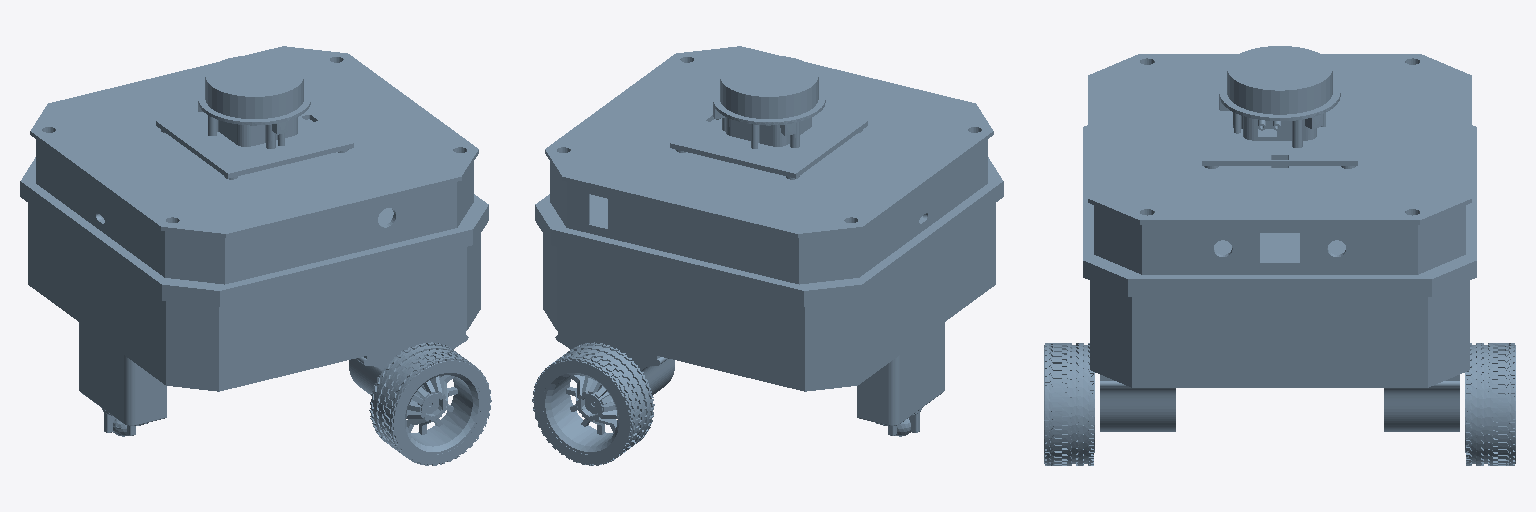
robot.urdf — auto_dir:
<?xml version="1.0"?>
<!-- auto_dir: generated by URDF Forge 2026-11-26T15:17:13.405Z
     Target: ROS 2 Jazzy · Gazebo Harmonic
     REP 103: Z-up, metres, kilograms, radians. -->
<robot name="auto_dir">
  <material name="default"><color rgba="0.56 0.65 0.73 1"/></material>

  <link name="Octagonal_inspection_chassis">
    <inertial>
      <origin xyz="-0.00554286 0.02933278 -14.21982468" rpy="0 0 0"/>
      <mass value="309366849.24947399"/>
      <inertia ixx="1527541817756.5920410156" ixy="-857153257.7619526386" ixz="-226549569.1636525989" iyy="1657595413124.2353515625" iyz="120355585.1159259528" izz="2954941743653.1005859375"/>
    </inertial>
    <visual name="Octagonal_inspection_chassis_visual">
      <origin xyz="0 0 -47" rpy="0 0 0"/>
      <geometry><mesh filename="package://auto_dir_description/meshes/Octagonal_inspection_chassis.stl" scale="1 1 1"/></geometry>
      <material name="default"/>
    </visual>
    <collision name="Octagonal_inspection_chassis_collision">
      <origin xyz="0 0 0" rpy="0 0 0"/>
      <geometry><box size="206 200 62"/></geometry>
    </collision>
  </link>

  <link name="Octagonal_service_cover_with_projecting_roof_edge">
    <inertial>
      <origin xyz="-1.29910941 -0.46143565 8.52465101" rpy="0 0 0"/>
      <mass value="169278889.64498931"/>
      <inertia ixx="742695270037.7515869141" ixy="5208195678.570148468" ixz="-1951204289.4255459309" iyy="793107221863.4862060547" iyz="-847886531.1748096943" izz="1502190663556.8205566406"/>
    </inertial>
    <visual name="Octagonal_service_cover_with_projecting_roof_edge_visual">
      <origin xyz="0 0 -97.5" rpy="0 0 0"/>
      <geometry><mesh filename="package://auto_dir_description/meshes/Octagonal_service_cover_with_projecting_roof_edge.stl" scale="1 1 1"/></geometry>
      <material name="default"/>
    </visual>
    <collision name="Octagonal_service_cover_with_projecting_roof_edge_collision">
      <origin xyz="0 0 0" rpy="0 0 0"/>
      <geometry><box size="208 202 33"/></geometry>
    </collision>
  </link>
  <joint name="Octagonal_service_cover_with_projecting_roof_edge_joint" type="fixed">
    <parent link="Octagonal_inspection_chassis"/>
    <child link="Octagonal_service_cover_with_projecting_roof_edge"/>
    <origin xyz="0 0 50.5" rpy="0 0 0"/>
  </joint>

  <link name="Octagonal_deck_with_overlapping_drip_skirt">
    <inertial>
      <origin xyz="-2.00911969 0 -0.98056889" rpy="0 0 0"/>
      <mass value="150265723.02505878"/>
      <inertia ixx="569011625824.5833740234" ixy="0.0000029196" ixz="1291723601.1896309853" iyy="624711741428.2354736328" iyz="0.0000004923" izz="1192365438564.0375976563"/>
    </inertial>
    <visual name="Octagonal_deck_with_overlapping_drip_skirt_visual">
      <origin xyz="0 0 -80" rpy="0 0 0"/>
      <geometry><mesh filename="package://auto_dir_description/meshes/Octagonal_deck_with_overlapping_drip_skirt.stl" scale="1 1 1"/></geometry>
      <material name="default"/>
    </visual>
    <collision name="Octagonal_deck_with_overlapping_drip_skirt_collision">
      <origin xyz="0 0 0" rpy="0 0 0"/>
      <geometry><box size="214 208 18"/></geometry>
    </collision>
  </link>
  <joint name="Octagonal_deck_with_overlapping_drip_skirt_joint" type="fixed">
    <parent link="Octagonal_inspection_chassis"/>
    <child link="Octagonal_deck_with_overlapping_drip_skirt"/>
    <origin xyz="0 0 33" rpy="0 0 0"/>
  </joint>

  <link name="_mm_wheel_left_layout">
    <inertial>
      <origin xyz="0.00159847 -0.13373383 -0.00004672" rpy="0 0 0"/>
      <mass value="47554577.29835925"/>
      <inertia ixx="19480808965.5183944702" ixy="-144665.7646665155" ixz="-29414.3313422865" iyy="33874714899.6596412659" iyz="3750.1877010495" izz="19482351544.8866081238"/>
    </inertial>
    <visual name="_mm_wheel_left_layout_visual">
      <origin xyz="-50.79001427 -111 18.00000048" rpy="0 0 0"/>
      <geometry><mesh filename="package://auto_dir_description/meshes/_mm_wheel_left_layout.stl" scale="1 1 1"/></geometry>
      <material name="default"/>
    </visual>
    <collision name="_mm_wheel_left_layout_collision">
      <origin xyz="0 0 0" rpy="0 0 0"/>
      <geometry><box size="64.99992371 26.3999939 64.99986267"/></geometry>
    </collision>
  </link>
  <joint name="_mm_wheel_left_layout_joint" type="fixed">
    <parent link="Octagonal_inspection_chassis"/>
    <child link="_mm_wheel_left_layout"/>
    <origin xyz="50.79001427 111 -65.00000048" rpy="0 0 0"/>
  </joint>

  <link name="_mm_wheel_right_layout">
    <inertial>
      <origin xyz="-0.00158645 0.13373103 -0.00005211" rpy="0 0 0"/>
      <mass value="47554559.74073744"/>
      <inertia ixx="19480801694.7012405396" ixy="-148655.7639223421" ixz="22059.0386899883" iyy="33874696947.1223640442" iyz="-3528.5423048459" izz="19482334362.3401184082"/>
    </inertial>
    <visual name="_mm_wheel_right_layout_visual">
      <origin xyz="-50.78998375 111 18.00000048" rpy="0 0 0"/>
      <geometry><mesh filename="package://auto_dir_description/meshes/_mm_wheel_right_layout.stl" scale="1 1 1"/></geometry>
      <material name="default"/>
    </visual>
    <collision name="_mm_wheel_right_layout_collision">
      <origin xyz="0 0 0" rpy="0 0 0"/>
      <geometry><box size="64.99992371 26.3999939 64.99986267"/></geometry>
    </collision>
  </link>
  <joint name="_mm_wheel_right_layout_joint" type="fixed">
    <parent link="Octagonal_inspection_chassis"/>
    <child link="_mm_wheel_right_layout"/>
    <origin xyz="50.78998375 -111 -65.00000048" rpy="0 0 0"/>
  </joint>

  <link name="v3_style_caster_mount_fitted_to_W420">
    <inertial>
      <origin xyz="-4.46936527 -0.00047946 -2.49669009" rpy="0 0 0"/>
      <mass value="26811546.32636261"/>
      <inertia ixx="16779575318.83842659" ixy="41119.8444392437" ixz="-222806665.0569467247" iyy="8361848502.8976192474" iyz="276181.8969360901" izz="13194193064.3010997772"/>
    </inertial>
    <visual name="v3_style_caster_mount_fitted_to_W420_visual">
      <origin xyz="82.5 0 7.25" rpy="0 0 0"/>
      <geometry><mesh filename="package://auto_dir_description/meshes/v3_style_caster_mount_fitted_to_W420.stl" scale="1 1 1"/></geometry>
      <material name="default"/>
    </visual>
    <collision name="v3_style_caster_mount_fitted_to_W420_collision">
      <origin xyz="0 0 0" rpy="0 0 0"/>
      <geometry><box size="35 79.92708588 46.5"/></geometry>
    </collision>
  </link>
  <joint name="v3_style_caster_mount_fitted_to_W420_joint" type="fixed">
    <parent link="Octagonal_inspection_chassis"/>
    <child link="v3_style_caster_mount_fitted_to_W420"/>
    <origin xyz="-82.5 0 -54.25" rpy="0 0 0"/>
  </joint>

  <link name="BIN_02_MotorMount_FL">
    <inertial>
      <origin xyz="0.01745932 2.56807228 9.50233141" rpy="0 0 0"/>
      <mass value="25958585.76240427"/>
      <inertia ixx="10138960890.0474872589" ixy="23981782.9555799775" ixz="-40526980.8292094991" iyy="15093030419.7687034607" iyz="451034992.2045432925" izz="13100063270.2314090729"/>
    </inertial>
    <visual name="BIN_02_MotorMount_FL_visual">
      <origin xyz="-50.78729248 -75 8" rpy="0 0 0"/>
      <geometry><mesh filename="package://auto_dir_description/meshes/BIN_02_MotorMount_FL.stl" scale="1 1 1"/></geometry>
      <material name="default"/>
    </visual>
    <collision name="BIN_02_MotorMount_FL_collision">
      <origin xyz="0 0 0" rpy="0 0 0"/>
      <geometry><box size="68.46034241 40 48"/></geometry>
    </collision>
  </link>
  <joint name="BIN_02_MotorMount_FL_joint" type="fixed">
    <parent link="Octagonal_inspection_chassis"/>
    <child link="BIN_02_MotorMount_FL"/>
    <origin xyz="50.78729248 75 -55" rpy="0 0 0"/>
  </joint>

  <link name="BIN_03_MotorMount_FR">
    <inertial>
      <origin xyz="0.01743522 -2.56807674 9.50232441" rpy="0 0 0"/>
      <mass value="25958566.54452845"/>
      <inertia ixx="10138956735.7752113342" ixy="-23978024.3483303934" ixz="-40521062.1099019498" iyy="15093008333.2885837555" iyz="-451033894.3418180346" izz="13100040469.7086524963"/>
    </inertial>
    <visual name="BIN_03_MotorMount_FR_visual">
      <origin xyz="-50.78729248 75 8" rpy="0 0 0"/>
      <geometry><mesh filename="package://auto_dir_description/meshes/BIN_03_MotorMount_FR.stl" scale="1 1 1"/></geometry>
      <material name="default"/>
    </visual>
    <collision name="BIN_03_MotorMount_FR_collision">
      <origin xyz="0 0 0" rpy="0 0 0"/>
      <geometry><box size="68.46034241 40 48"/></geometry>
    </collision>
  </link>
  <joint name="BIN_03_MotorMount_FR_joint" type="fixed">
    <parent link="Octagonal_inspection_chassis"/>
    <child link="BIN_03_MotorMount_FR"/>
    <origin xyz="50.78729248 -75 -55" rpy="0 0 0"/>
  </joint>

  <link name="Dreame_LDS_plate_supplied_STEP_hole_pattern">
    <inertial>
      <origin xyz="-0.31333239 0.00530452 0.9565053" rpy="0 0 0"/>
      <mass value="20206761.53403697"/>
      <inertia ixx="11705117914.1720485687" ixy="-635431.8032607735" ixz="275383.7853661744" iyy="11475877872.3590869904" iyz="-4662.0735174462" izz="23146556921.7335929871"/>
    </inertial>
    <visual name="Dreame_LDS_plate_supplied_STEP_hole_pattern_visual">
      <origin xyz="0 0 -116.5" rpy="0 0 0"/>
      <geometry><mesh filename="package://auto_dir_description/meshes/Dreame_LDS_plate_supplied_STEP_hole_pattern.stl" scale="1 1 1"/></geometry>
      <material name="default"/>
    </visual>
    <collision name="Dreame_LDS_plate_supplied_STEP_hole_pattern_collision">
      <origin xyz="0 0 0" rpy="0 0 0"/>
      <geometry><box size="82 82 5"/></geometry>
    </collision>
  </link>
  <joint name="Dreame_LDS_plate_supplied_STEP_hole_pattern_joint" type="fixed">
    <parent link="Octagonal_inspection_chassis"/>
    <child link="Dreame_LDS_plate_supplied_STEP_hole_pattern"/>
    <origin xyz="0 0 69.5" rpy="0 0 0"/>
  </joint>

  <link name="DreameLDS_2">
    <inertial>
      <origin xyz="0.04003593 0.03613687 4.80679969" rpy="0 0 0"/>
      <mass value="12974561.50585137"/>
      <inertia ixx="3750281227.8656525612" ixy="27514275.6269324832" ixz="-12390174.6740924418" iyy="3607679181.2356915474" iyz="-615412.5194230946" izz="6479824591.0357818604"/>
    </inertial>
    <visual name="DreameLDS_2_visual">
      <origin xyz="0 -0.00540829 -129.5" rpy="0 0 0"/>
      <geometry><mesh filename="package://auto_dir_description/meshes/DreameLDS_2.stl" scale="1 1 1"/></geometry>
      <material name="default"/>
    </visual>
    <collision name="DreameLDS_2_collision">
      <origin xyz="0 0 0" rpy="0 0 0"/>
      <geometry><box size="64 63.98907471 21"/></geometry>
    </collision>
  </link>
  <joint name="DreameLDS_2_joint" type="fixed">
    <parent link="Octagonal_inspection_chassis"/>
    <child link="DreameLDS_2"/>
    <origin xyz="0 0.00540829 82.5" rpy="0 0 0"/>
  </joint>

  <link name="DreameLDS">
    <inertial>
      <origin xyz="0.00535594 0.08846231 3.74476042" rpy="0 0 0"/>
      <mass value="11561723.5327449"/>
      <inertia ixx="3992651519.761654377" ixy="-849271.4767369871" ixz="129387.9438642974" iyy="3931742524.3925905228" iyz="12469257.5262069814" izz="7064336355.787569046"/>
    </inertial>
    <visual name="DreameLDS_visual">
      <origin xyz="0 -0.00540733 -143.5" rpy="0 0 0"/>
      <geometry><mesh filename="package://auto_dir_description/meshes/DreameLDS.stl" scale="1 1 1"/></geometry>
      <material name="default"/>
    </visual>
    <collision name="DreameLDS_collision">
      <origin xyz="0 0 0" rpy="0 0 0"/>
      <geometry><box size="64 63.98907089 21"/></geometry>
    </collision>
  </link>
  <joint name="DreameLDS_joint" type="fixed">
    <parent link="Octagonal_inspection_chassis"/>
    <child link="DreameLDS"/>
    <origin xyz="0 0.00540733 96.5" rpy="0 0 0"/>
  </joint>

  <link name="W420_ball_caster_supplied_STEP">
    <inertial>
      <origin xyz="-0.00014914 0.00017374 4.08880463" rpy="0 0 0"/>
      <mass value="3588014.29357459"/>
      <inertia ixx="451329462.358109355" ixy="-47.3457217138" ixz="-3891.6102763556" iyy="177388350.6159245372" iyz="4097.0966726912" izz="523953131.154607594"/>
    </inertial>
    <visual name="W420_ball_caster_supplied_STEP_visual">
      <origin xyz="86 0 38.2299614" rpy="0 0 0"/>
      <geometry><mesh filename="package://auto_dir_description/meshes/W420_ball_caster_supplied_STEP.stl" scale="1 1 1"/></geometry>
      <material name="default"/>
    </visual>
    <collision name="W420_ball_caster_supplied_STEP_collision">
      <origin xyz="0 0 0" rpy="0 0 0"/>
      <geometry><box size="24.43623352 50.70000076 15.45999908"/></geometry>
    </collision>
  </link>
  <joint name="W420_ball_caster_supplied_STEP_joint" type="fixed">
    <parent link="Octagonal_inspection_chassis"/>
    <child link="W420_ball_caster_supplied_STEP"/>
    <origin xyz="-86 0 -85.2299614" rpy="0 0 0"/>
  </joint>

  <link name="W420_ball_caster_supplied_STEP_2">
    <inertial>
      <origin xyz="0 0 0.00000027" rpy="0 0 0"/>
      <mass value="1988140.60857785"/>
      <inertia ixx="48536149.0682027638" ixy="34731.0541706769" ixz="0" iyy="48491556.8371195719" iyz="-0.0000000001" izz="48157810.220600605"/>
    </inertial>
    <visual name="W420_ball_caster_supplied_STEP_2_visual">
      <origin xyz="86 0 42.59996223" rpy="0 0 0"/>
      <geometry><mesh filename="package://auto_dir_description/meshes/W420_ball_caster_supplied_STEP_2.stl" scale="1 1 1"/></geometry>
      <material name="default"/>
    </visual>
    <collision name="W420_ball_caster_supplied_STEP_2_collision">
      <origin xyz="0 0 0" rpy="0 0 0"/>
      <geometry><box size="15.79347229 15.79346561 15.79999924"/></geometry>
    </collision>
  </link>
  <joint name="W420_ball_caster_supplied_STEP_2_joint" type="fixed">
    <parent link="Octagonal_inspection_chassis"/>
    <child link="W420_ball_caster_supplied_STEP_2"/>
    <origin xyz="-86 0 -89.59996223" rpy="0 0 0"/>
  </joint>

  <!-- Simulator: Gazebo Harmonic -->
  <gazebo reference="Octagonal_inspection_chassis">
    <mu1>0.8</mu1>
    <mu2>0.8</mu2>
    <kp>1000000</kp>
    <kd>100</kd>
    <minDepth>0.001</minDepth>
    <maxVel>0.01</maxVel>
    <selfCollide>false</selfCollide>
    <visual>
      <material>
        <ambient>0.56 0.65 0.73 1</ambient>
        <diffuse>0.56 0.65 0.73 1</diffuse>
        <specular>0.1 0.1 0.1 1</specular>
        <pbr><metal><metalness>0.15</metalness><roughness>0.55</roughness></metal></pbr>
      </material>
    </visual>
  </gazebo>
  <gazebo reference="Octagonal_service_cover_with_projecting_roof_edge">
    <mu1>0.8</mu1>
    <mu2>0.8</mu2>
    <kp>1000000</kp>
    <kd>100</kd>
    <minDepth>0.001</minDepth>
    <maxVel>0.01</maxVel>
    <selfCollide>false</selfCollide>
    <visual>
      <material>
        <ambient>0.56 0.65 0.73 1</ambient>
        <diffuse>0.56 0.65 0.73 1</diffuse>
        <specular>0.1 0.1 0.1 1</specular>
        <pbr><metal><metalness>0.15</metalness><roughness>0.55</roughness></metal></pbr>
      </material>
    </visual>
  </gazebo>
  <gazebo reference="Octagonal_deck_with_overlapping_drip_skirt">
    <mu1>0.8</mu1>
    <mu2>0.8</mu2>
    <kp>1000000</kp>
    <kd>100</kd>
    <minDepth>0.001</minDepth>
    <maxVel>0.01</maxVel>
    <selfCollide>false</selfCollide>
    <visual>
      <material>
        <ambient>0.56 0.65 0.73 1</ambient>
        <diffuse>0.56 0.65 0.73 1</diffuse>
        <specular>0.1 0.1 0.1 1</specular>
        <pbr><metal><metalness>0.15</metalness><roughness>0.55</roughness></metal></pbr>
      </material>
    </visual>
  </gazebo>
  <gazebo reference="_mm_wheel_left_layout">
    <mu1>0.8</mu1>
    <mu2>0.8</mu2>
    <kp>1000000</kp>
    <kd>100</kd>
    <minDepth>0.001</minDepth>
    <maxVel>0.01</maxVel>
    <selfCollide>false</selfCollide>
    <visual>
      <material>
        <ambient>0.56 0.65 0.73 1</ambient>
        <diffuse>0.56 0.65 0.73 1</diffuse>
        <specular>0.1 0.1 0.1 1</specular>
        <pbr><metal><metalness>0.15</metalness><roughness>0.55</roughness></metal></pbr>
      </material>
    </visual>
  </gazebo>
  <gazebo reference="_mm_wheel_right_layout">
    <mu1>0.8</mu1>
    <mu2>0.8</mu2>
    <kp>1000000</kp>
    <kd>100</kd>
    <minDepth>0.001</minDepth>
    <maxVel>0.01</maxVel>
    <selfCollide>false</selfCollide>
    <visual>
      <material>
        <ambient>0.56 0.65 0.73 1</ambient>
        <diffuse>0.56 0.65 0.73 1</diffuse>
        <specular>0.1 0.1 0.1 1</specular>
        <pbr><metal><metalness>0.15</metalness><roughness>0.55</roughness></metal></pbr>
      </material>
    </visual>
  </gazebo>
  <gazebo reference="v3_style_caster_mount_fitted_to_W420">
    <mu1>0.8</mu1>
    <mu2>0.8</mu2>
    <kp>1000000</kp>
    <kd>100</kd>
    <minDepth>0.001</minDepth>
    <maxVel>0.01</maxVel>
    <selfCollide>false</selfCollide>
    <visual>
      <material>
        <ambient>0.56 0.65 0.73 1</ambient>
        <diffuse>0.56 0.65 0.73 1</diffuse>
        <specular>0.1 0.1 0.1 1</specular>
        <pbr><metal><metalness>0.15</metalness><roughness>0.55</roughness></metal></pbr>
      </material>
    </visual>
  </gazebo>
  <gazebo reference="BIN_02_MotorMount_FL">
    <mu1>0.8</mu1>
    <mu2>0.8</mu2>
    <kp>1000000</kp>
    <kd>100</kd>
    <minDepth>0.001</minDepth>
    <maxVel>0.01</maxVel>
    <selfCollide>false</selfCollide>
    <visual>
      <material>
        <ambient>0.56 0.65 0.73 1</ambient>
        <diffuse>0.56 0.65 0.73 1</diffuse>
        <specular>0.1 0.1 0.1 1</specular>
        <pbr><metal><metalness>0.15</metalness><roughness>0.55</roughness></metal></pbr>
      </material>
    </visual>
  </gazebo>
  <gazebo reference="BIN_03_MotorMount_FR">
    <mu1>0.8</mu1>
    <mu2>0.8</mu2>
    <kp>1000000</kp>
    <kd>100</kd>
    <minDepth>0.001</minDepth>
    <maxVel>0.01</maxVel>
    <selfCollide>false</selfCollide>
    <visual>
      <material>
        <ambient>0.56 0.65 0.73 1</ambient>
        <diffuse>0.56 0.65 0.73 1</diffuse>
        <specular>0.1 0.1 0.1 1</specular>
        <pbr><metal><metalness>0.15</metalness><roughness>0.55</roughness></metal></pbr>
      </material>
    </visual>
  </gazebo>
  <gazebo reference="Dreame_LDS_plate_supplied_STEP_hole_pattern">
    <mu1>0.8</mu1>
    <mu2>0.8</mu2>
    <kp>1000000</kp>
    <kd>100</kd>
    <minDepth>0.001</minDepth>
    <maxVel>0.01</maxVel>
    <selfCollide>false</selfCollide>
    <visual>
      <material>
        <ambient>0.56 0.65 0.73 1</ambient>
        <diffuse>0.56 0.65 0.73 1</diffuse>
        <specular>0.1 0.1 0.1 1</specular>
        <pbr><metal><metalness>0.15</metalness><roughness>0.55</roughness></metal></pbr>
      </material>
    </visual>
  </gazebo>
  <gazebo reference="DreameLDS_2">
    <mu1>0.8</mu1>
    <mu2>0.8</mu2>
    <kp>1000000</kp>
    <kd>100</kd>
    <minDepth>0.001</minDepth>
    <maxVel>0.01</maxVel>
    <selfCollide>false</selfCollide>
    <visual>
      <material>
        <ambient>0.56 0.65 0.73 1</ambient>
        <diffuse>0.56 0.65 0.73 1</diffuse>
        <specular>0.1 0.1 0.1 1</specular>
        <pbr><metal><metalness>0.15</metalness><roughness>0.55</roughness></metal></pbr>
      </material>
    </visual>
  </gazebo>
  <gazebo reference="DreameLDS">
    <mu1>0.8</mu1>
    <mu2>0.8</mu2>
    <kp>1000000</kp>
    <kd>100</kd>
    <minDepth>0.001</minDepth>
    <maxVel>0.01</maxVel>
    <selfCollide>false</selfCollide>
    <visual>
      <material>
        <ambient>0.56 0.65 0.73 1</ambient>
        <diffuse>0.56 0.65 0.73 1</diffuse>
        <specular>0.1 0.1 0.1 1</specular>
        <pbr><metal><metalness>0.15</metalness><roughness>0.55</roughness></metal></pbr>
      </material>
    </visual>
  </gazebo>
  <gazebo reference="W420_ball_caster_supplied_STEP">
    <mu1>0.8</mu1>
    <mu2>0.8</mu2>
    <kp>1000000</kp>
    <kd>100</kd>
    <minDepth>0.001</minDepth>
    <maxVel>0.01</maxVel>
    <selfCollide>false</selfCollide>
    <visual>
      <material>
        <ambient>0.56 0.65 0.73 1</ambient>
        <diffuse>0.56 0.65 0.73 1</diffuse>
        <specular>0.1 0.1 0.1 1</specular>
        <pbr><metal><metalness>0.15</metalness><roughness>0.55</roughness></metal></pbr>
      </material>
    </visual>
  </gazebo>
  <gazebo reference="W420_ball_caster_supplied_STEP_2">
    <mu1>0.8</mu1>
    <mu2>0.8</mu2>
    <kp>1000000</kp>
    <kd>100</kd>
    <minDepth>0.001</minDepth>
    <maxVel>0.01</maxVel>
    <selfCollide>false</selfCollide>
    <visual>
      <material>
        <ambient>0.56 0.65 0.73 1</ambient>
        <diffuse>0.56 0.65 0.73 1</diffuse>
        <specular>0.1 0.1 0.1 1</specular>
        <pbr><metal><metalness>0.15</metalness><roughness>0.55</roughness></metal></pbr>
      </material>
    </visual>
  </gazebo>
</robot>

--- Render facts (derived) ---
3 views of the same robot in one strip: view 1: azimuth 30°, elevation 25°; view 2: azimuth 150°, elevation 25°; view 3: azimuth 270°, elevation 25° (orthographic).
Model auto_dir with 13 links and 12 joints (12 fixed), rooted at Octagonal_inspection_chassis, posed every joint at zero.
Links seen in each view (by area): view 1: Octagonal_service_cover_with_projecting_roof_edge, Octagonal_inspection_chassis, Octagonal_deck_with_overlapping_drip_skirt, _mm_wheel_right_layout, Dreame_LDS_plate_supplied_STEP_hole_pattern, DreameLDS, v3_style_caster_mount_fitted_to_W420, DreameLDS_2, BIN_03_MotorMount_FR; view 2: Octagonal_service_cover_with_projecting_roof_edge, Octagonal_inspection_chassis, Octagonal_deck_with_overlapping_drip_skirt, _mm_wheel_left_layout, DreameLDS, Dreame_LDS_plate_supplied_STEP_hole_pattern, v3_style_caster_mount_fitted_to_W420, DreameLDS_2, BIN_02_MotorMount_FL; view 3: Octagonal_service_cover_with_projecting_roof_edge, Octagonal_inspection_chassis, Octagonal_deck_with_overlapping_drip_skirt, DreameLDS, Dreame_LDS_plate_supplied_STEP_hole_pattern, _mm_wheel_left_layout, _mm_wheel_right_layout, BIN_02_MotorMount_FL, BIN_03_MotorMount_FR, DreameLDS_2.
Boxes of the visible links, bbox=[...] form: Octagonal_service_cover_with_projecting_roof_edge: bbox=[30, 46, 478, 284]; Octagonal_inspection_chassis: bbox=[28, 203, 480, 391]; Octagonal_deck_with_overlapping_drip_skirt: bbox=[20, 157, 488, 306]; _mm_wheel_right_layout: bbox=[369, 342, 491, 465]; Dreame_LDS_plate_supplied_STEP_hole_pattern: bbox=[156, 110, 353, 179]; DreameLDS: bbox=[198, 55, 310, 130]; v3_style_caster_mount_fitted_to_W420: bbox=[79, 322, 166, 425]; DreameLDS_2: bbox=[198, 88, 310, 148]; BIN_03_MotorMount_FR: bbox=[349, 332, 468, 405]; Octagonal_service_cover_with_projecting_roof_edge: bbox=[545, 46, 993, 284]; Octagonal_inspection_chassis: bbox=[543, 203, 995, 391]; Octagonal_deck_with_overlapping_drip_skirt: bbox=[535, 157, 1003, 306]; _mm_wheel_left_layout: bbox=[532, 342, 654, 465]; DreameLDS: bbox=[713, 55, 825, 131]; Dreame_LDS_plate_supplied_STEP_hole_pattern: bbox=[670, 110, 867, 179]; v3_style_caster_mount_fitted_to_W420: bbox=[857, 322, 944, 425]; DreameLDS_2: bbox=[713, 88, 825, 148]; BIN_02_MotorMount_FL: bbox=[555, 332, 674, 405]; Octagonal_service_cover_with_projecting_roof_edge: bbox=[1088, 54, 1471, 274]; Octagonal_inspection_chassis: bbox=[1090, 281, 1469, 387]; Octagonal_deck_with_overlapping_drip_skirt: bbox=[1083, 125, 1476, 296]; DreameLDS: bbox=[1219, 46, 1340, 124]; Dreame_LDS_plate_supplied_STEP_hole_pattern: bbox=[1202, 96, 1357, 168]; _mm_wheel_left_layout: bbox=[1465, 343, 1515, 465]; _mm_wheel_right_layout: bbox=[1044, 343, 1094, 465]; BIN_02_MotorMount_FL: bbox=[1384, 375, 1459, 431]; BIN_03_MotorMount_FR: bbox=[1100, 375, 1175, 431]; DreameLDS_2: bbox=[1219, 80, 1340, 147].
Bounding box of the posed robot: 214 × 248 × 204 m (x, y, z).
Meshes: 13 distinct files referenced, 13 mesh visuals loaded (13 binary STL).
